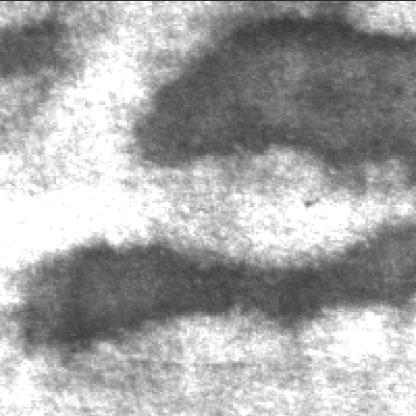patches: (6, 227, 414, 362), (127, 10, 414, 180), (0, 15, 58, 79)
